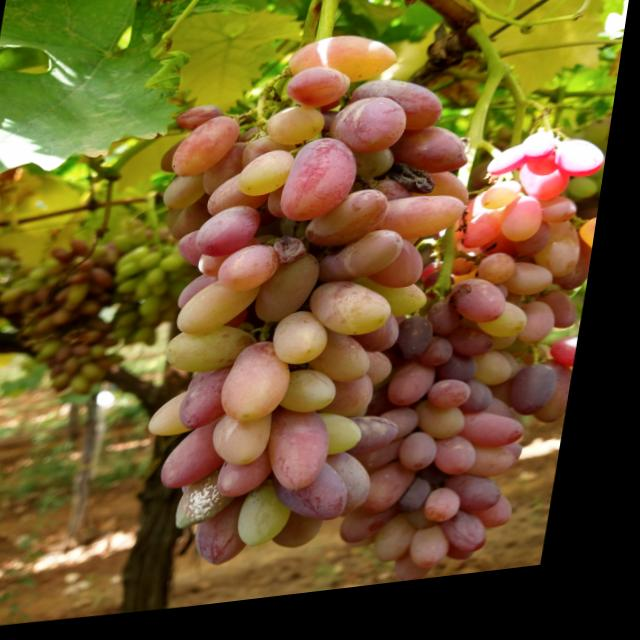grapes: (284, 141, 368, 231), (287, 37, 401, 99), (351, 83, 451, 147), (231, 348, 307, 431), (279, 413, 349, 502), (283, 467, 369, 535), (317, 285, 405, 350), (173, 422, 246, 497), (312, 195, 398, 258), (170, 329, 268, 383), (331, 102, 413, 165), (262, 259, 330, 334), (207, 500, 273, 576), (186, 285, 269, 345), (328, 237, 412, 295), (381, 202, 472, 254), (395, 135, 479, 189), (250, 482, 311, 556), (176, 119, 245, 183), (318, 336, 387, 396), (363, 282, 441, 332), (222, 416, 288, 475), (202, 210, 271, 264), (281, 317, 344, 375), (335, 460, 389, 527), (536, 233, 593, 295), (188, 376, 245, 437), (375, 247, 437, 303), (284, 72, 357, 119), (223, 250, 290, 301), (213, 176, 281, 225), (370, 471, 430, 526), (232, 453, 291, 507), (288, 375, 351, 425), (519, 376, 574, 433), (472, 421, 541, 466), (455, 482, 521, 528), (242, 154, 301, 205), (205, 148, 258, 203), (545, 372, 588, 439), (461, 289, 519, 338), (158, 395, 217, 443), (352, 422, 416, 466), (423, 408, 482, 455), (354, 511, 418, 554), (268, 112, 330, 156), (522, 170, 579, 217), (457, 521, 510, 570), (412, 181, 478, 220), (325, 418, 379, 465), (289, 515, 344, 561), (388, 524, 436, 576), (562, 250, 604, 307), (562, 150, 615, 195), (506, 207, 553, 257), (358, 322, 413, 364), (399, 373, 449, 419), (425, 533, 471, 583), (510, 272, 567, 312), (485, 312, 541, 352), (341, 384, 389, 429), (447, 446, 494, 490), (405, 325, 446, 374), (547, 301, 590, 347), (469, 220, 518, 260), (481, 508, 532, 546), (411, 441, 454, 485), (529, 313, 569, 360), (483, 456, 534, 492), (166, 178, 212, 217), (482, 362, 528, 401), (439, 389, 486, 425), (434, 308, 473, 349), (468, 391, 509, 429), (519, 234, 559, 272), (439, 499, 479, 537), (461, 338, 508, 370), (392, 417, 434, 451), (485, 265, 528, 298), (357, 158, 401, 190), (492, 157, 537, 188), (448, 366, 491, 398), (414, 487, 451, 524), (186, 280, 226, 314), (488, 193, 529, 225), (375, 358, 406, 399), (545, 209, 586, 240), (162, 142, 196, 179), (412, 564, 452, 595), (181, 236, 215, 272), (581, 231, 606, 279), (375, 188, 421, 213), (523, 145, 565, 172), (431, 348, 467, 379), (203, 256, 242, 284), (562, 350, 591, 386), (532, 163, 568, 191), (496, 408, 533, 435), (463, 551, 493, 573), (504, 345, 530, 363), (519, 454, 539, 475), (601, 189, 611, 208)
